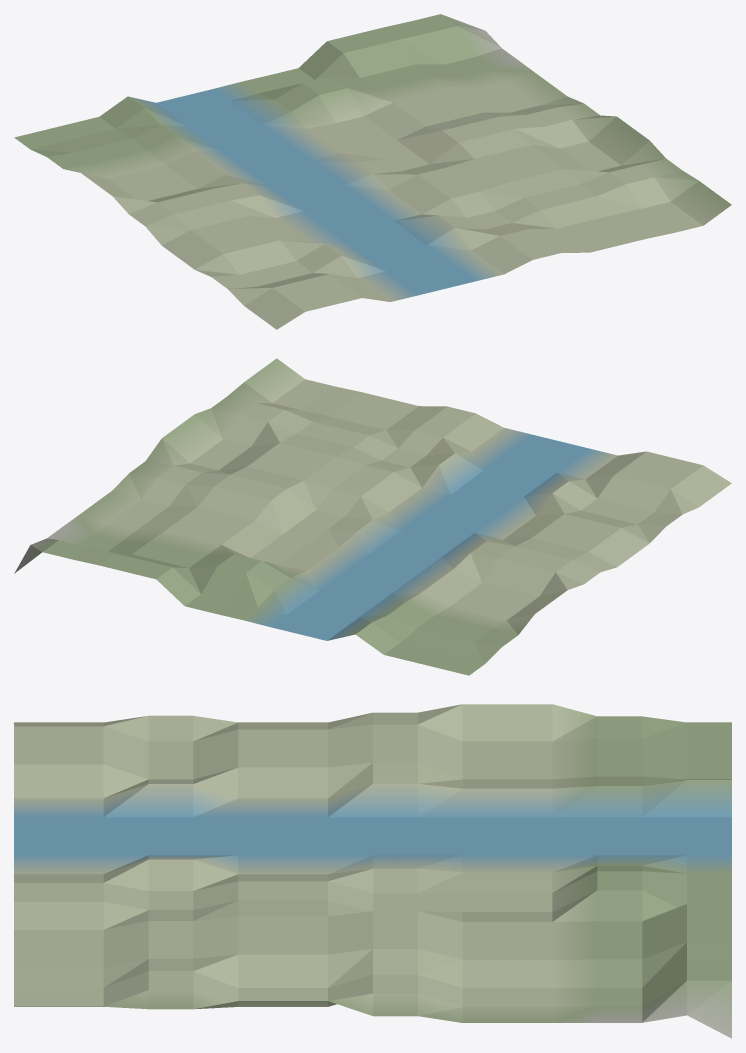
3 views of the same model, one above another, from view 1: azimuth 30°, elevation 25°; view 2: azimuth 150°, elevation 25°; view 3: azimuth 270°, elevation 25° (orthographic). The views are drawn at different scales.
Bounding box in the file's own units: 32 × 1.97 × 32.
